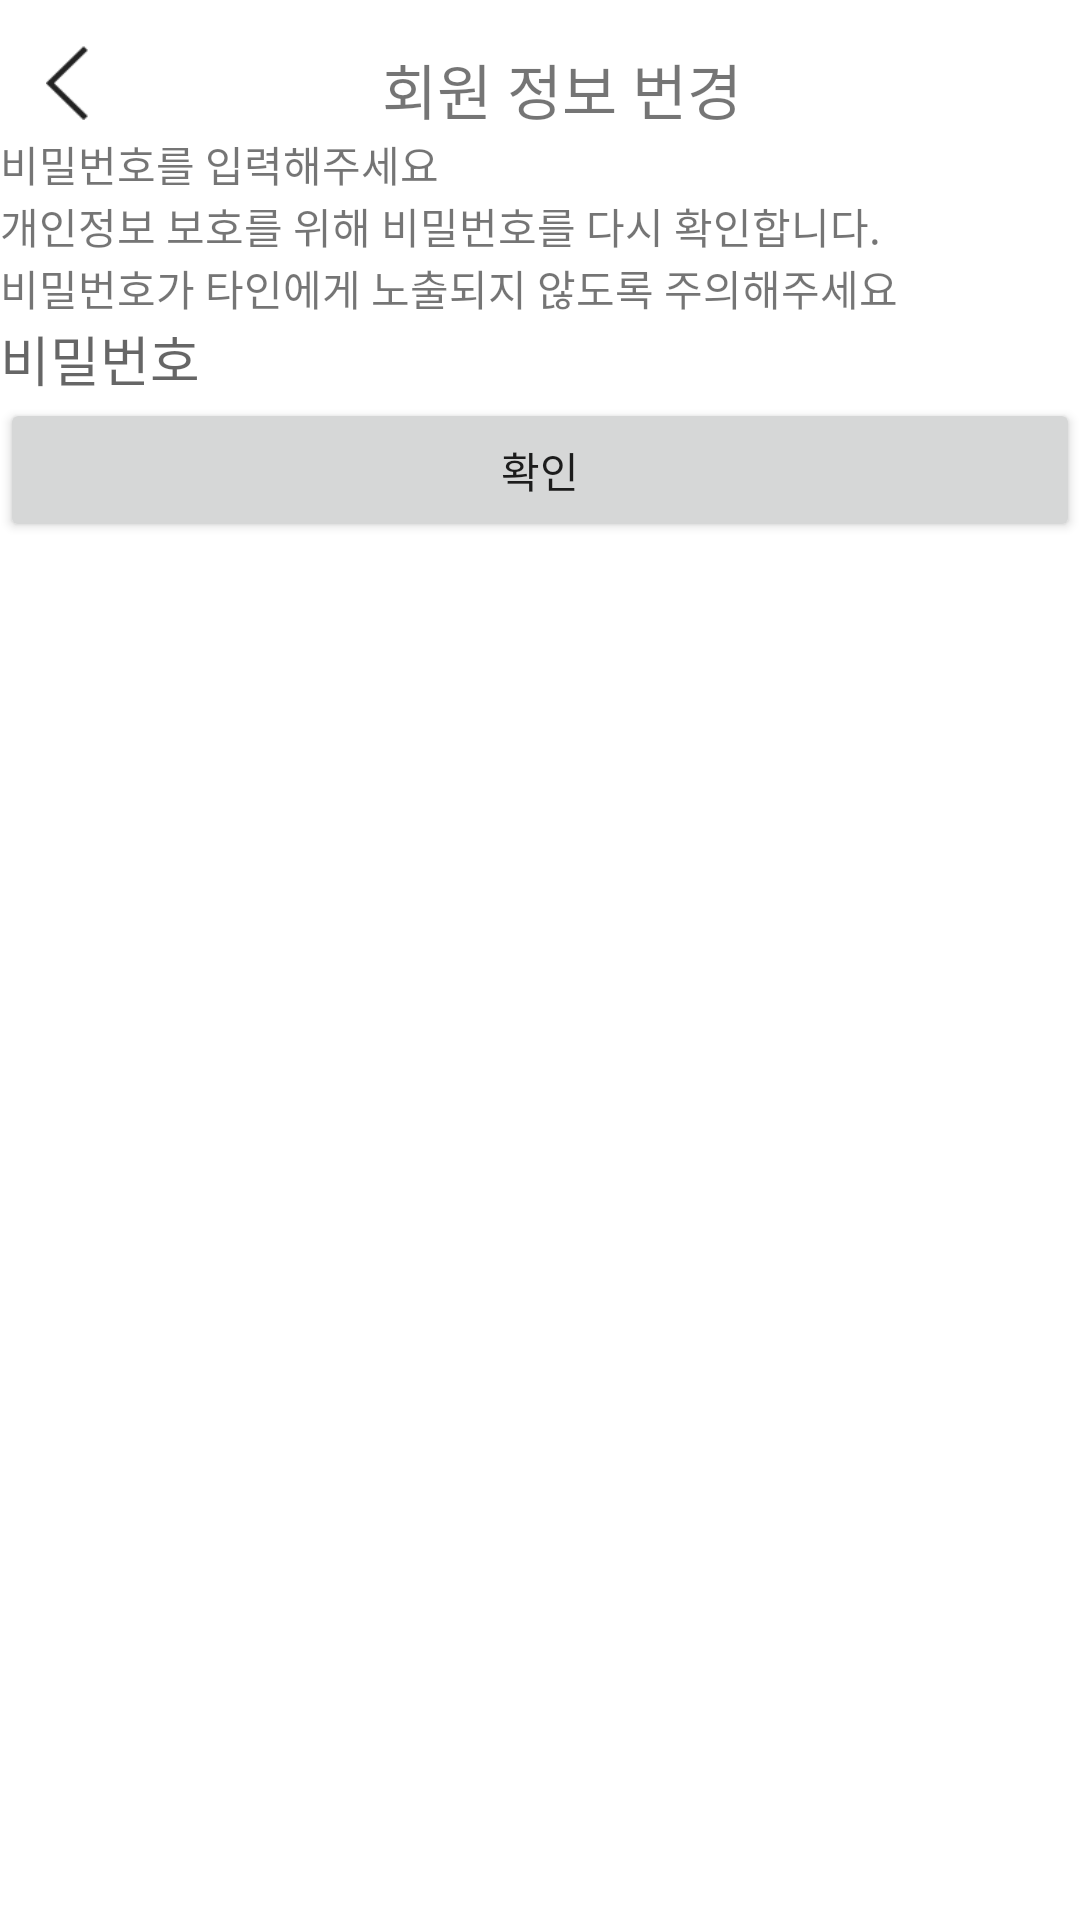

Named icons in this screenshot (1080px x 1920px) and their centers, [x,y]:
arrow: [67,83]
